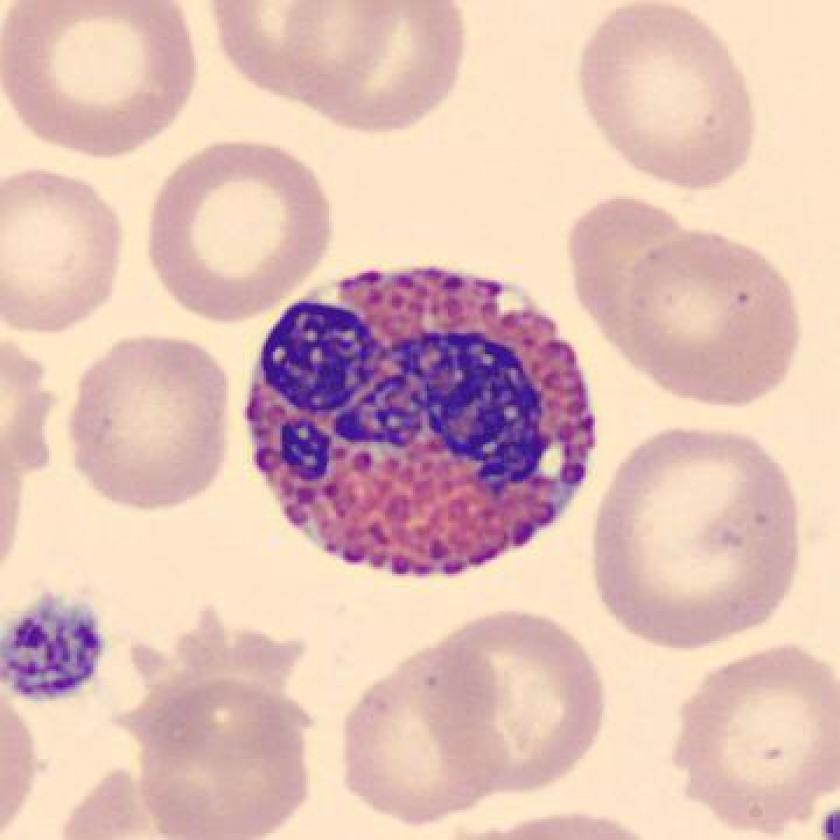eosinophil: (232, 251, 612, 586)
